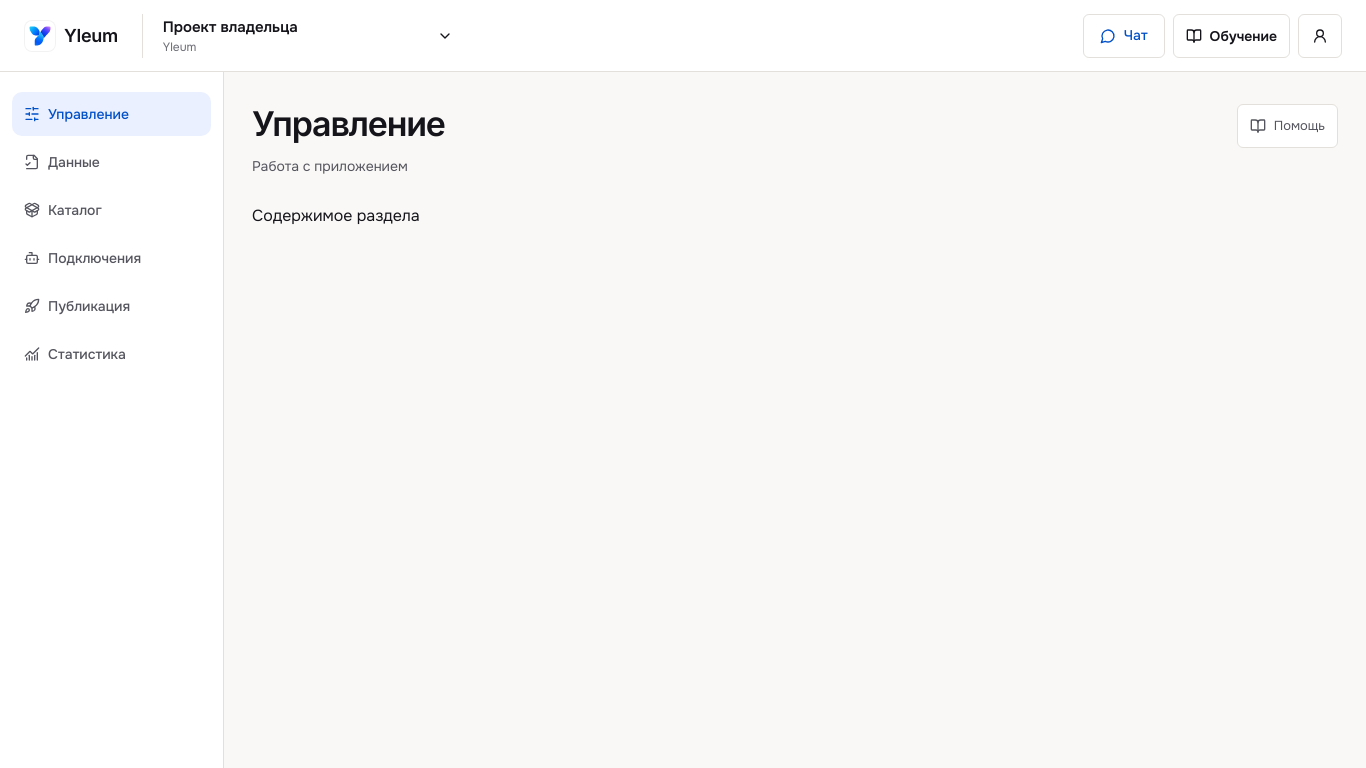
it: shared MAX project identity and navigation › follows a real project link and closes navigation
Click the button with test id "max-navigation-open".
click(230, 26)  # box [155,12,461,58]
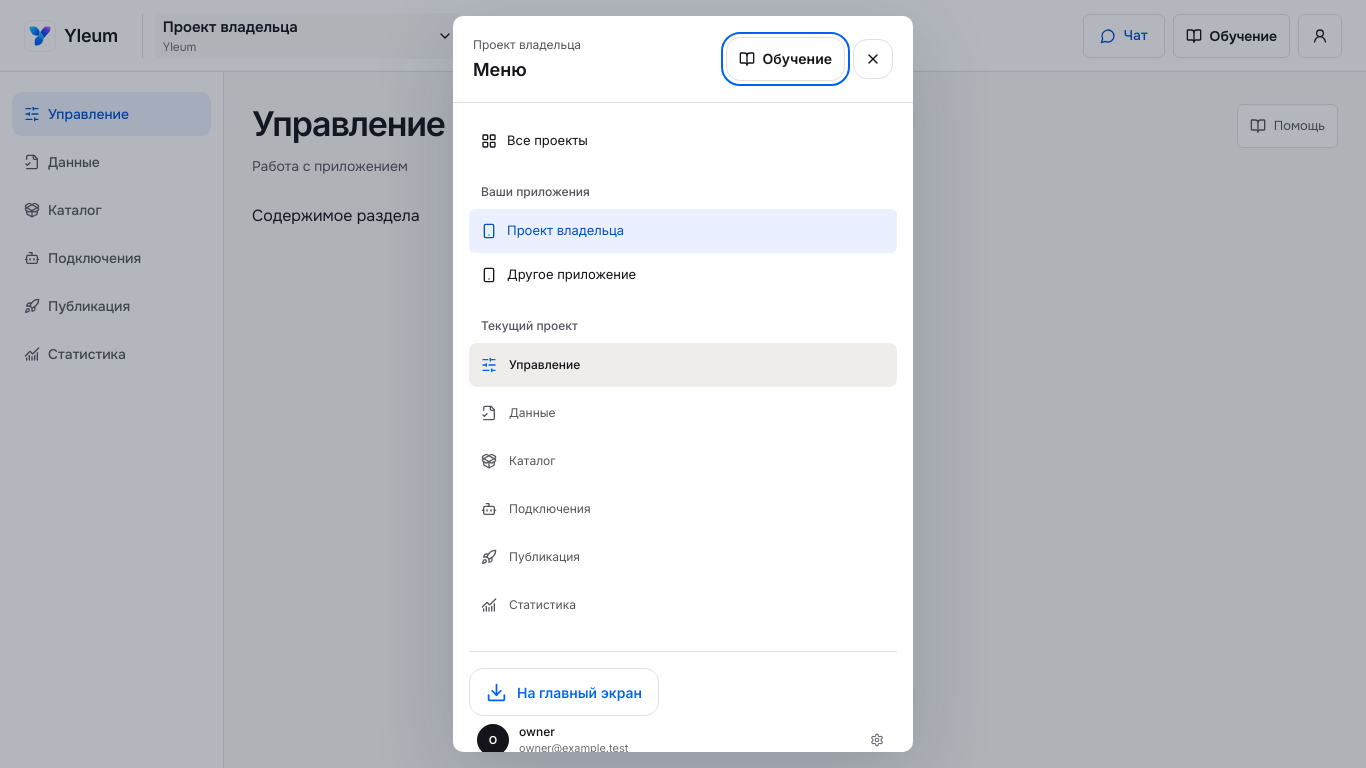
Expected: the dialog is shown, [453,16,913,752]
Expected: the link to "/max/other" is shown
Click the link to "/max/other".
click(559, 275)  # box [481,266,636,283]
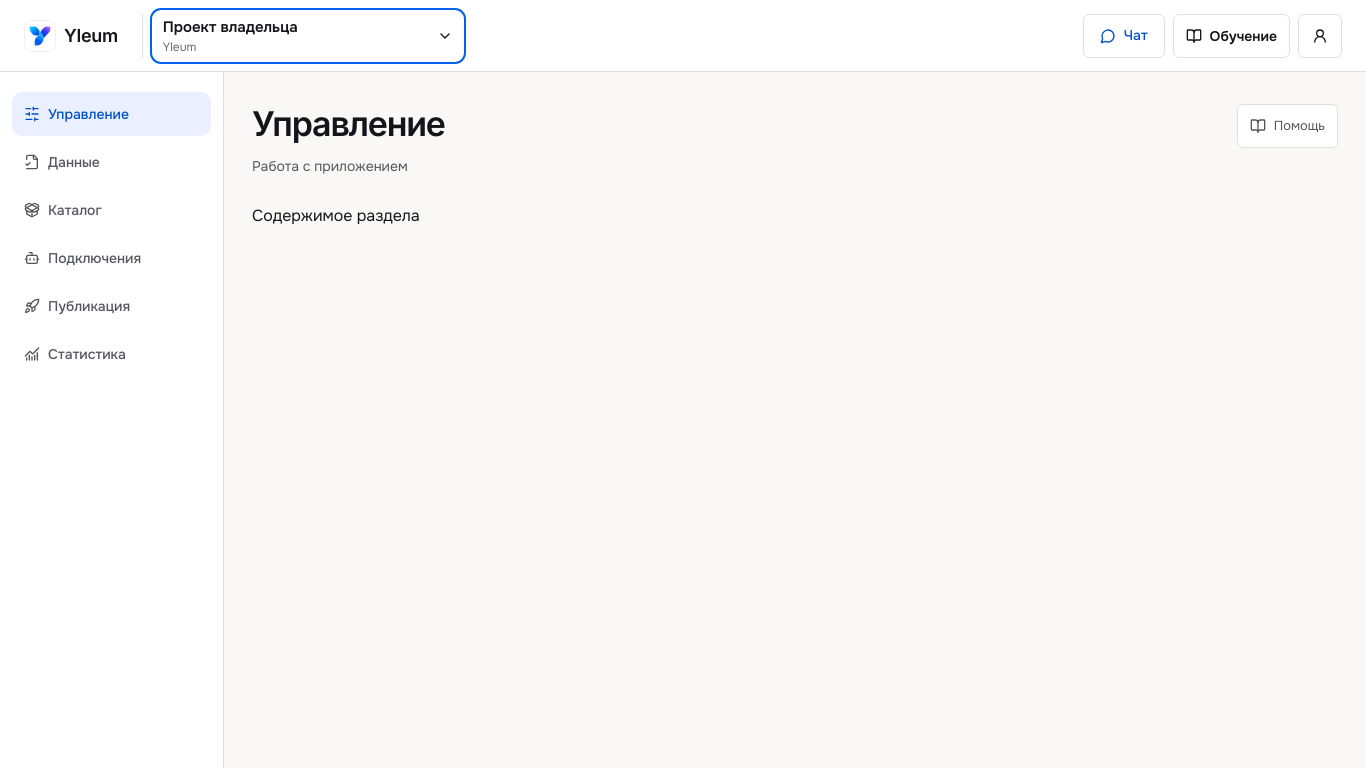
Expected: the dialog is gone
Expected: the button with test id "max-navigation-open" is collapsed, [155,12,461,58]
